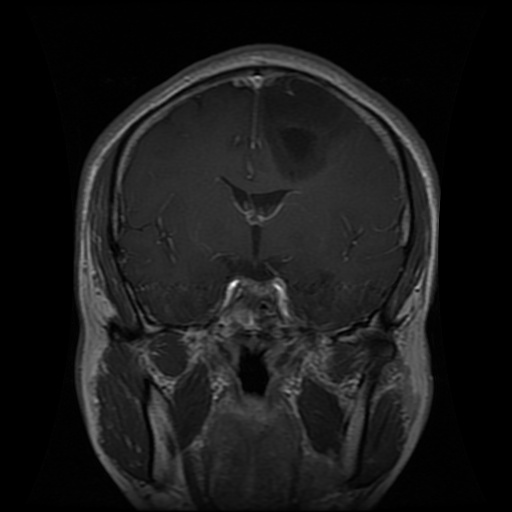glioma: (260, 72, 344, 183)
